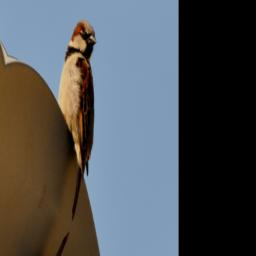Swallow: (28, 10, 123, 223)
